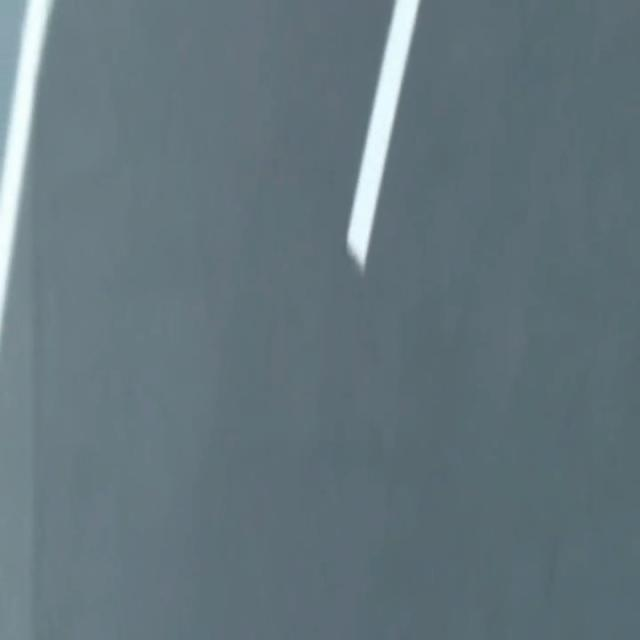center: (348, 0, 420, 272)
left: (0, 0, 52, 340)
